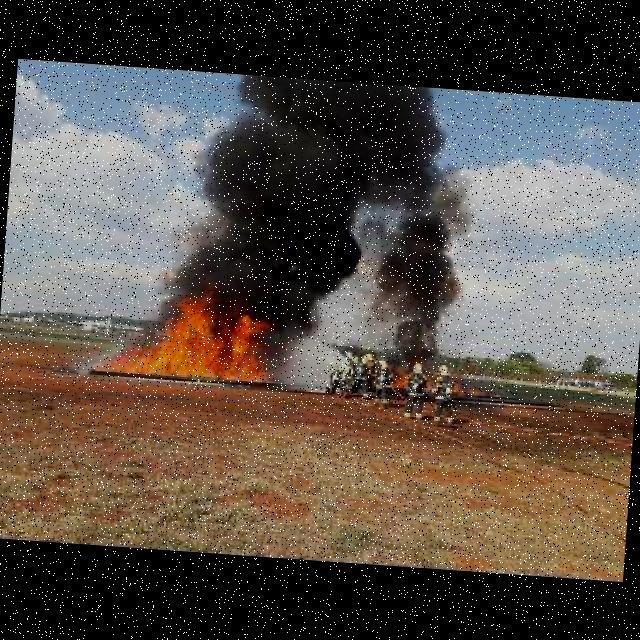Fire: (100, 281, 272, 380), (453, 380, 484, 396), (392, 369, 407, 388)
Smoke: (162, 74, 391, 312), (363, 164, 473, 368)
